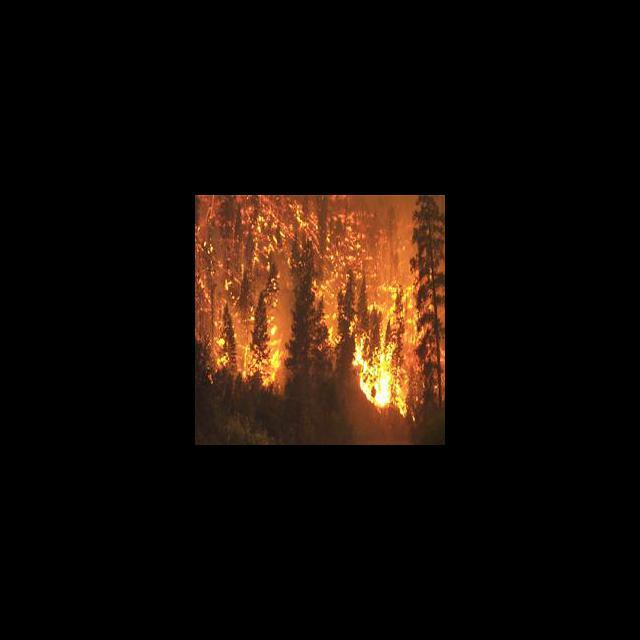Fire: (195, 195, 423, 418)
